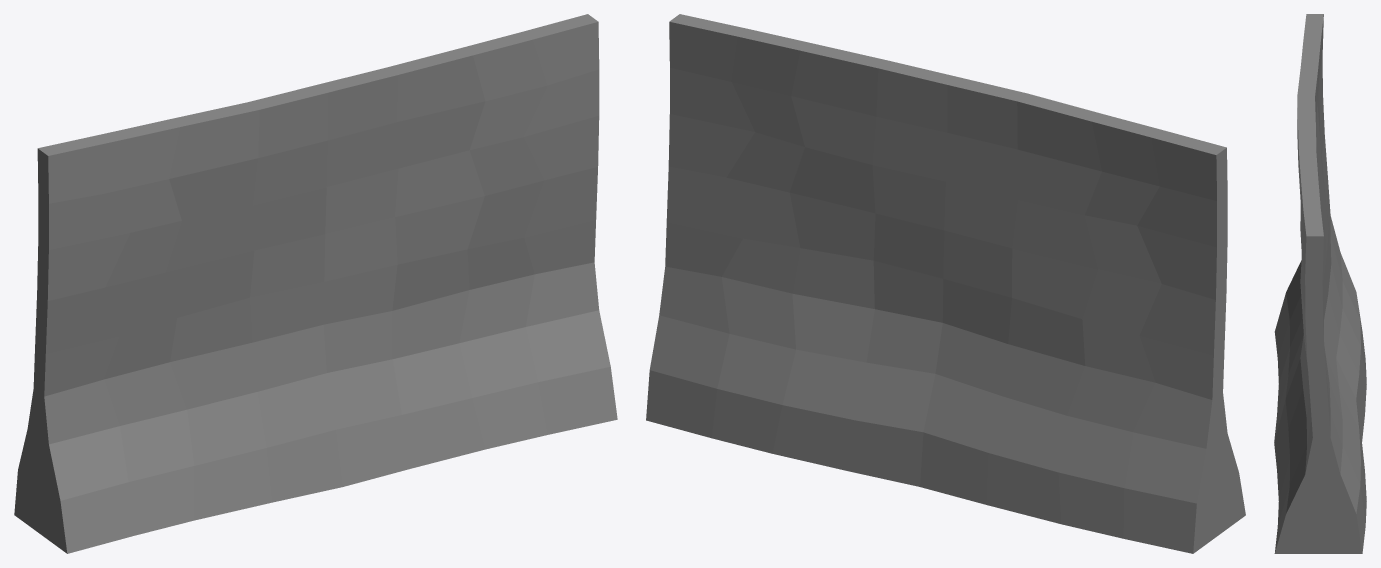
File: concrete_barrier.fbx
3 views of the same model, side by side, from view 1: azimuth 30°, elevation 25°; view 2: azimuth 150°, elevation 25°; view 3: azimuth 270°, elevation 25° (orthographic). The views are drawn at different scales.
Parts seen in each view (by area): view 1: concrete_barrier; view 2: concrete_barrier; view 3: concrete_barrier.
Boxes of the visible parts, x1,y1,x2,y2 form: concrete_barrier: [14, 14, 617, 553]; concrete_barrier: [646, 14, 1245, 553]; concrete_barrier: [1274, 14, 1366, 553].
Bounding box in the file's own units: 600 × 400 × 106.
